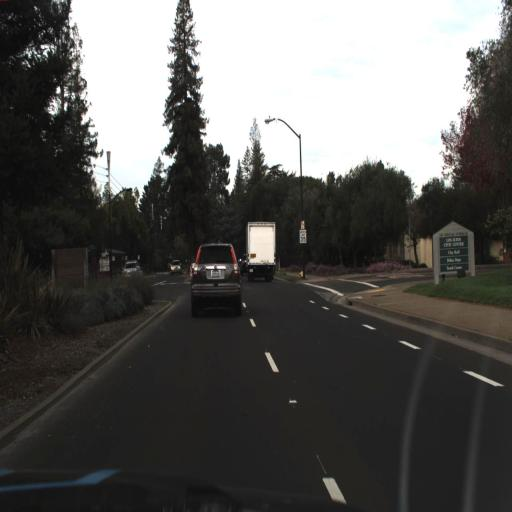car: (183, 236, 248, 334), (239, 212, 284, 290), (166, 253, 183, 280), (121, 259, 142, 278)
truck: (243, 216, 280, 286)
